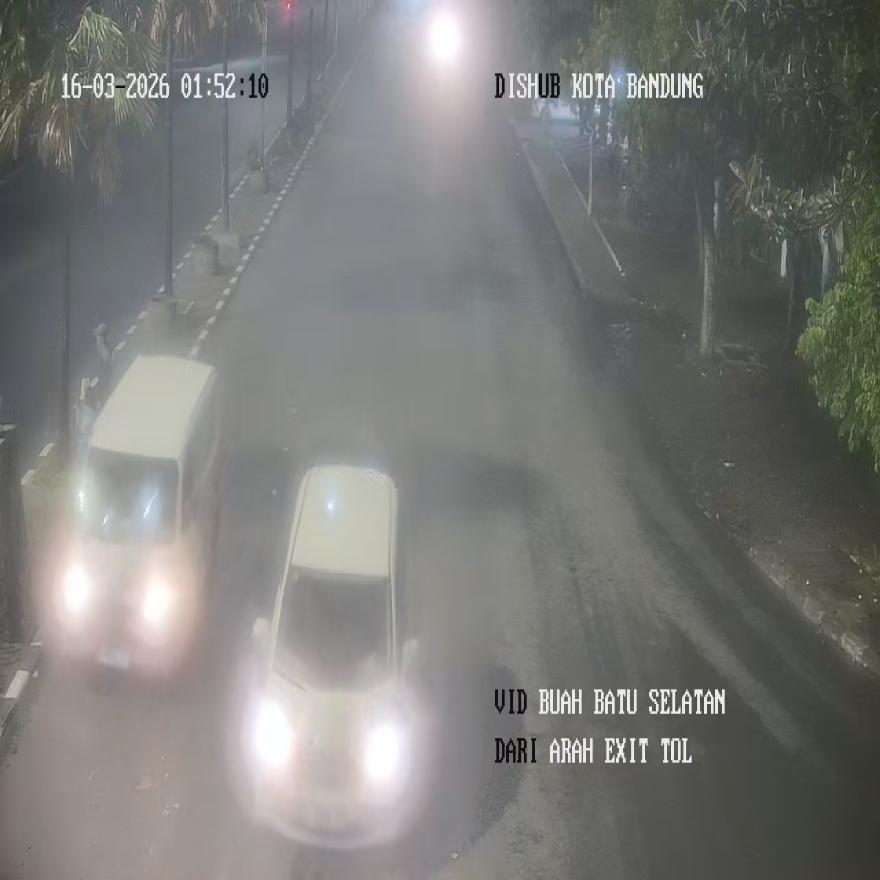Motor: (242, 462, 424, 848), (50, 354, 226, 678)
